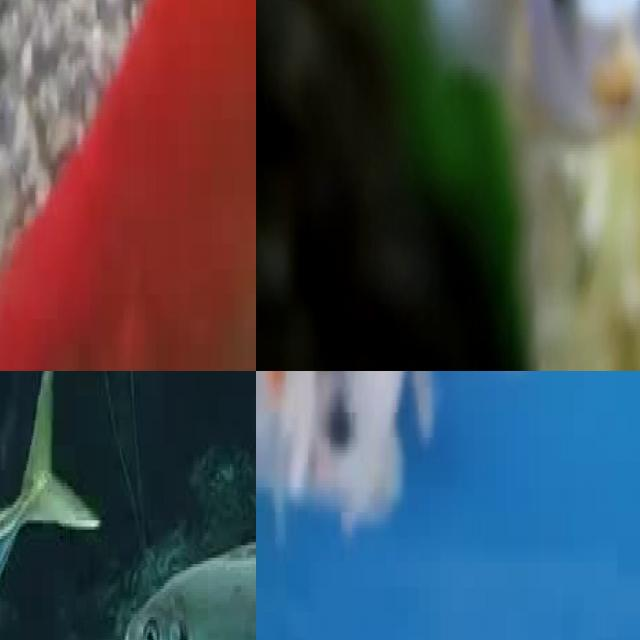fish: (0, 0, 256, 371), (128, 461, 256, 640)
